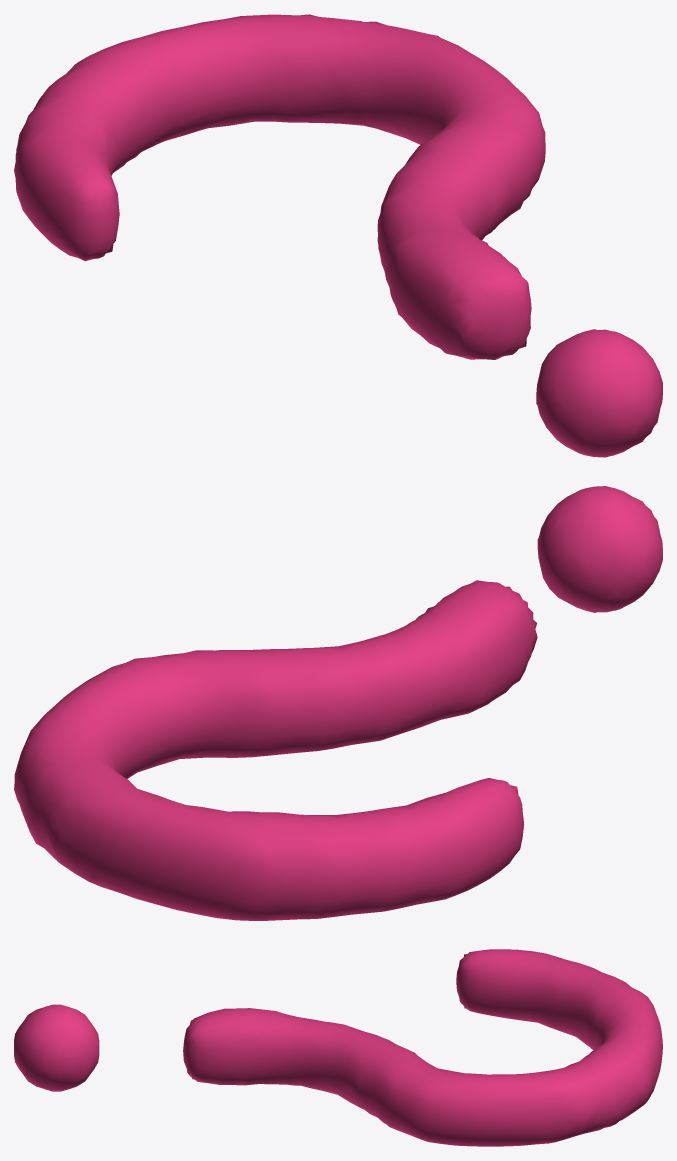
File: questionmark.glb
The picture shows the model from 3 angles, top to bottom: view 1: azimuth 30°, elevation 25°; view 2: azimuth 150°, elevation 25°; view 3: azimuth 270°, elevation 25°; orthographic projection. The views are drawn at different scales.
Visible parts, largest first — view 1: dot; view 2: dot; view 3: dot.
Boxes of the visible parts, x1,y1,x2,y2 form: dot: [14, 14, 662, 457]; dot: [14, 486, 662, 920]; dot: [14, 949, 662, 1146].
Size of the model in its own units: 6.65 by 1.56 by 11.9.
